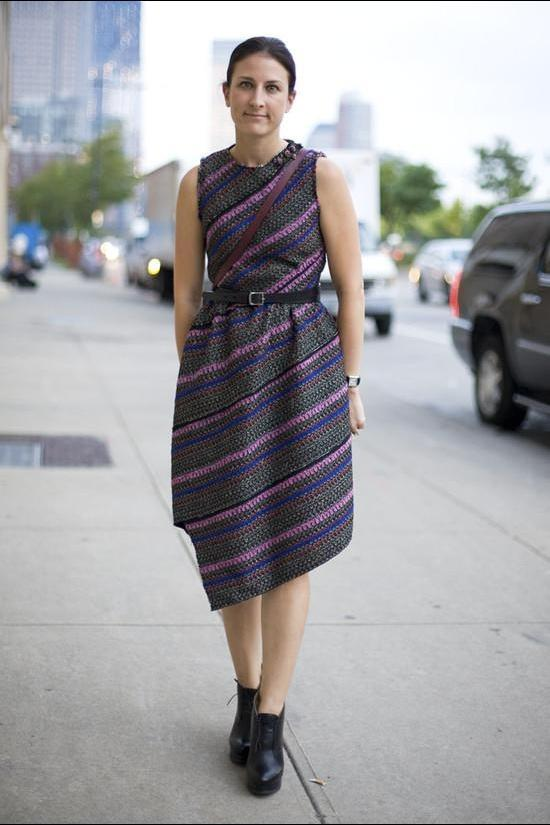dress: (171, 138, 354, 612)
